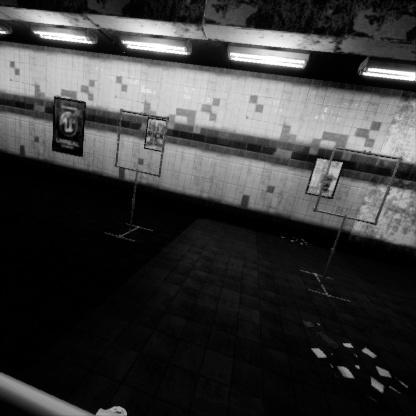gate: (313, 189, 409, 270), (115, 238, 173, 307)
